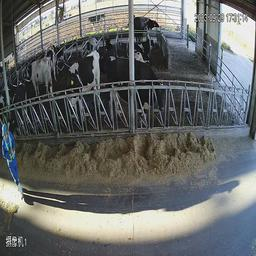cow: (104, 53, 167, 137), (65, 46, 103, 137), (6, 77, 30, 133), (23, 54, 53, 98), (134, 9, 162, 41), (81, 30, 104, 54), (130, 37, 157, 55)
